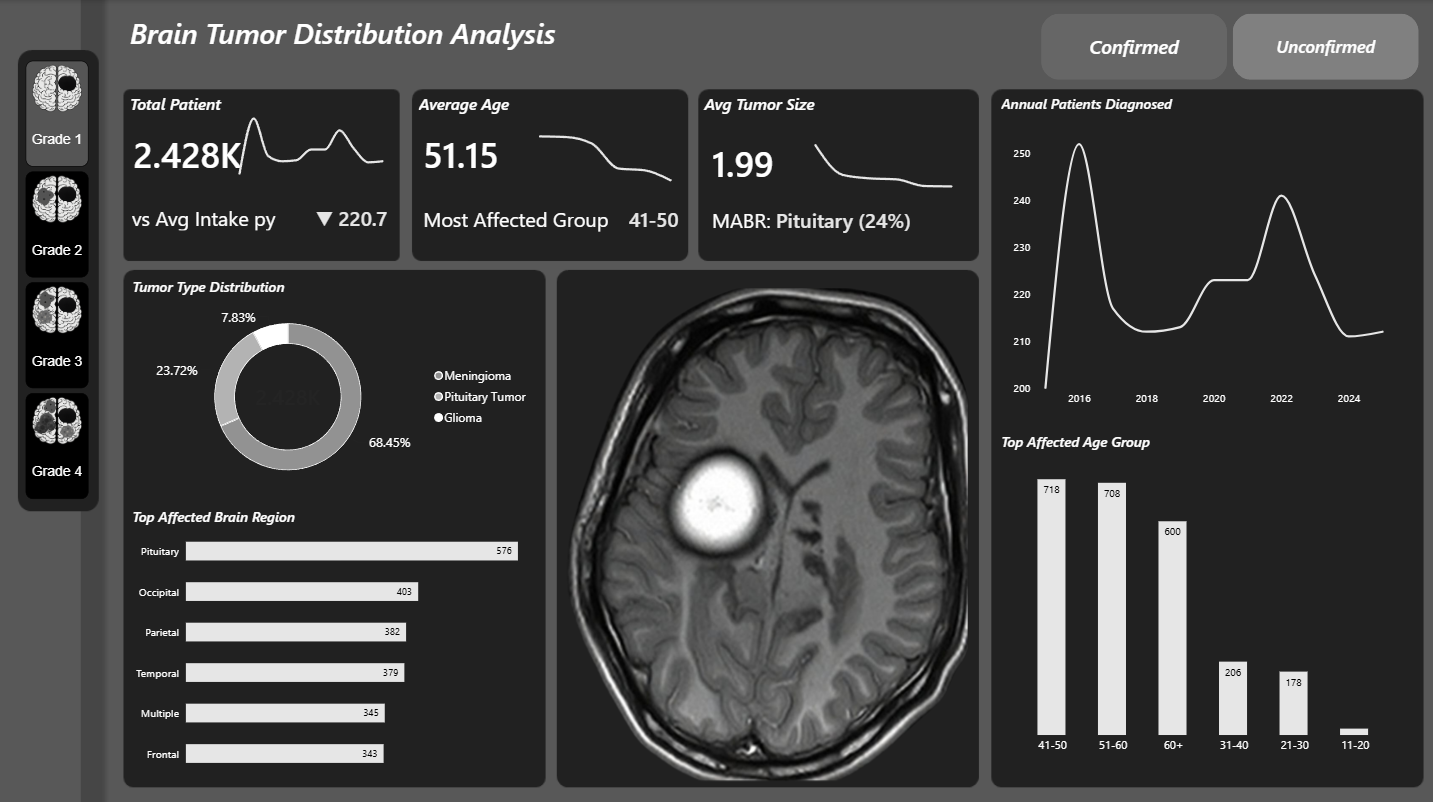

What the dashboard file says about the page in this screenshot:
{"tool":"powerbi","page":{"name":"Page 1","canvas":[1920,1080],"ordinal":0},"visuals":[{"type":"cardVisual","fields":{"Data":["CountNonNull(Brain Tumor Data.Patient ID)"]},"box":[161.4,140,187.3,131.7],"z":0},{"type":"lineChart","fields":{"Category":["Brain Tumor Data.Date of Diagnosis.Variation.Date Hierarchy.Year"],"Y":["CountNonNull(Brain Tumor Data.Patient ID)"]},"box":[294.3,122.9,242.9,125.6],"z":1000},{"type":"cardVisual","fields":{"Data":["CountNonNull(Brain Tumor Data.Patient ID)"]},"box":[161.1,148.4,377.1,220],"z":2000},{"type":"textbox","box":[172.9,122.9,151.4,41.4],"z":3000},{"type":"cardVisual","fields":{"Data":["Avg(Brain Tumor Data.Age)"]},"box":[550,140,164.3,131.4],"z":4000},{"type":"lineChart","fields":{"Category":["Brain Tumor Data.Age Group"],"Y":["CountNonNull(Brain Tumor Data.Patient ID)"]},"box":[691.6,152.3,234.6,107],"z":5000},{"type":"cardVisual","fields":{"Data":["CountNonNull(Brain Tumor Data.Patient ID)"]},"box":[549.6,150.3,377.1,220],"z":6000},{"type":"textbox","box":[559.9,123.5,142,35],"z":7000},{"type":"cardVisual","fields":{"Data":["Avg(Brain Tumor Data.Tumor Size (cm))"]},"box":[934.5,152.3,164.3,131.4],"z":8000},{"type":"lineChart","fields":{"Category":["Brain Tumor Data.Affected Brain Region"],"Y":["Sum(Brain Tumor Data.Tumor Size (cm))"]},"box":[1058,164.7,242.9,108.6],"z":9000},{"type":"cardVisual","fields":{"Data":["CountNonNull(Brain Tumor Data.Patient ID)"]},"box":[934.5,152.3,377.1,220],"z":10000},{"type":"textbox","box":[934.5,123.5,191.4,39.1],"z":11000},{"type":"advancedSlicerVisual","fields":{"Values":["Brain Tumor Data.Histology Confirmation"]},"box":[1391.4,18.5,504.3,88.5],"z":12000},{"type":"ChicletSlicer1448559807354","fields":{"Category":["Tumor Images.Tumor Grade"],"Image":["Tumor Images.Icon URL"]},"box":[14.4,63.8,146.1,636],"z":13000},{"type":"imageDB603108E3FF4EBFB8047F5653368E8C","fields":{"imageUrl":["Tumor Images.Image URL"]},"box":[738.9,370.5,572.2,687.5],"z":14000},{"type":"donutChart","fields":{"Category":["Brain Tumor Data.Tumor Type"],"Y":["CountNonNull(Brain Tumor Data.Patient ID)"]},"box":[172.9,382.8,553.7,296.4],"z":15000},{"type":"textbox","box":[177,370.5,296.4,45.3],"z":16000},{"type":"clusteredBarChart","fields":{"Category":["Brain Tumor Data.Affected Brain Region"],"Y":["CountNonNull(Brain Tumor Data.Patient ID)"]},"box":[160.5,679.2,566,378.7],"z":17000},{"type":"textbox","box":[177,677.2,308.7,45.3],"z":18000},{"type":"lineChart","fields":{"Category":["Brain Tumor Data.Date of Diagnosis.Variation.Date Hierarchy.Year"],"Y":["CountNonNull(Brain Tumor Data.Patient ID)"]},"box":[1337.9,150.3,541.3,411.7],"z":19000},{"type":"textbox","box":[1337.9,125.6,314.9,47.3],"z":20000},{"type":"clusteredColumnChart","fields":{"Category":["Brain Tumor Data.Age Group"],"Y":["CountNonNull(Brain Tumor Data.Patient ID)"]},"box":[1337.9,578.4,541.3,448.7],"z":20001},{"type":"textbox","box":[1337.9,578.4,366.4,37],"z":20002},{"type":"textbox","box":[173.7,18.1,707.6,88.7],"z":20003}]}

Visuals, with their boxes in screenshot pixels (x1, y1, x2, y2), scaled from the page's 1920x1080 canvas onto the 1433x802 screenshot:
cardVisual - CountNonNull(Brain Tumor Data.Patient ID): (left=120, top=104, right=260, bottom=202)
lineChart - Brain Tumor Data.Date of Diagnosis.Variation.Date Hierarchy.Year x CountNonNull(Brain Tumor Data.Patient ID): (left=220, top=91, right=401, bottom=185)
cardVisual - CountNonNull(Brain Tumor Data.Patient ID): (left=120, top=110, right=402, bottom=274)
textbox: (left=129, top=91, right=242, bottom=122)
cardVisual - Avg(Brain Tumor Data.Age): (left=410, top=104, right=533, bottom=202)
lineChart - Brain Tumor Data.Age Group x CountNonNull(Brain Tumor Data.Patient ID): (left=516, top=113, right=691, bottom=193)
cardVisual - CountNonNull(Brain Tumor Data.Patient ID): (left=410, top=112, right=692, bottom=275)
textbox: (left=418, top=92, right=524, bottom=118)
cardVisual - Avg(Brain Tumor Data.Tumor Size (cm)): (left=697, top=113, right=820, bottom=211)
lineChart - Brain Tumor Data.Affected Brain Region x Sum(Brain Tumor Data.Tumor Size (cm)): (left=790, top=122, right=971, bottom=203)
cardVisual - CountNonNull(Brain Tumor Data.Patient ID): (left=697, top=113, right=979, bottom=276)
textbox: (left=697, top=92, right=840, bottom=121)
advancedSlicerVisual - Brain Tumor Data.Histology Confirmation: (left=1038, top=14, right=1415, bottom=79)
ChicletSlicer1448559807354 - Tumor Images.Tumor Grade x Tumor Images.Icon URL: (left=11, top=47, right=120, bottom=520)
imageDB603108E3FF4EBFB8047F5653368E8C - Tumor Images.Image URL: (left=551, top=275, right=979, bottom=786)
donutChart - Brain Tumor Data.Tumor Type x CountNonNull(Brain Tumor Data.Patient ID): (left=129, top=284, right=542, bottom=504)
textbox: (left=132, top=275, right=353, bottom=309)
clusteredBarChart - Brain Tumor Data.Affected Brain Region x CountNonNull(Brain Tumor Data.Patient ID): (left=120, top=504, right=542, bottom=786)
textbox: (left=132, top=503, right=363, bottom=537)
lineChart - Brain Tumor Data.Date of Diagnosis.Variation.Date Hierarchy.Year x CountNonNull(Brain Tumor Data.Patient ID): (left=999, top=112, right=1403, bottom=417)
textbox: (left=999, top=93, right=1234, bottom=128)
clusteredColumnChart - Brain Tumor Data.Age Group x CountNonNull(Brain Tumor Data.Patient ID): (left=999, top=430, right=1403, bottom=763)
textbox: (left=999, top=430, right=1272, bottom=457)
textbox: (left=130, top=13, right=658, bottom=79)
